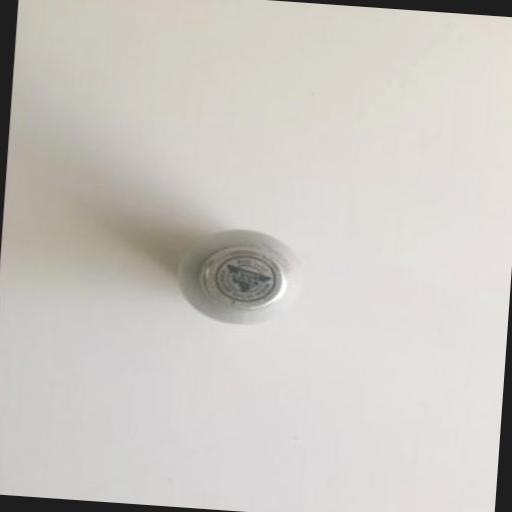metal: (173, 226, 308, 332)
